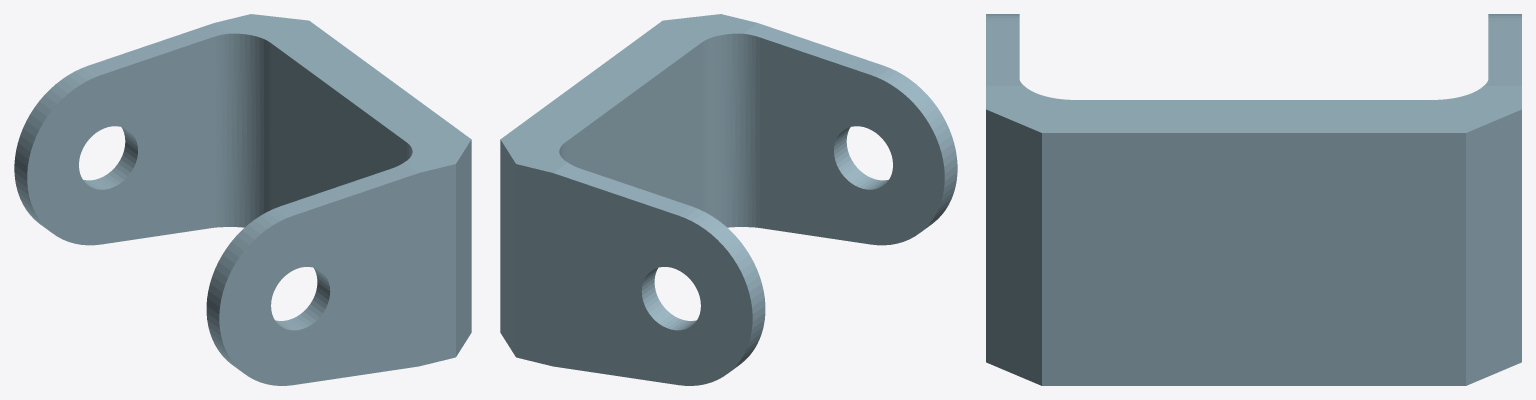
Rendered from ken_part1.dae.
The picture shows the model from 3 angles, left to right: view 1: azimuth 30°, elevation 25°; view 2: azimuth 150°, elevation 25°; view 3: azimuth 270°, elevation 25°; orthographic projection. The views are drawn at different scales.
Visible parts, largest first — view 1: ken_part1_for_sim; view 2: ken_part1_for_sim; view 3: ken_part1_for_sim.
Boxes of the visible parts, x1=… form: ken_part1_for_sim: x1=14, y1=14, x2=471, y2=385; ken_part1_for_sim: x1=500, y1=14, x2=957, y2=385; ken_part1_for_sim: x1=986, y1=14, x2=1521, y2=385.
Bounding box in the file's own units: 0.037 × 0.048 × 0.025.
